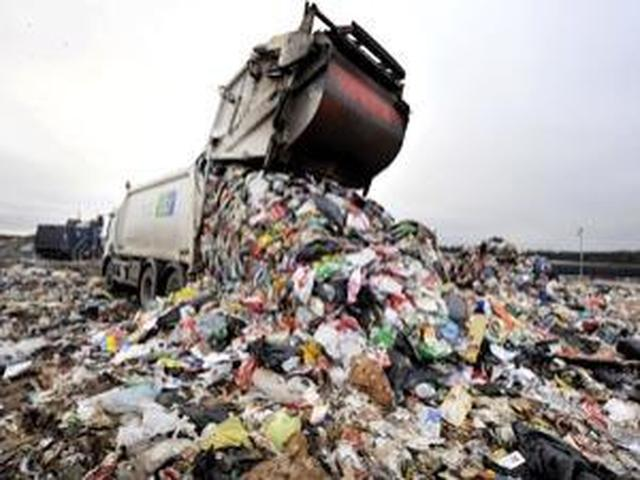garbage: (49, 308, 612, 465), (219, 186, 356, 316)
